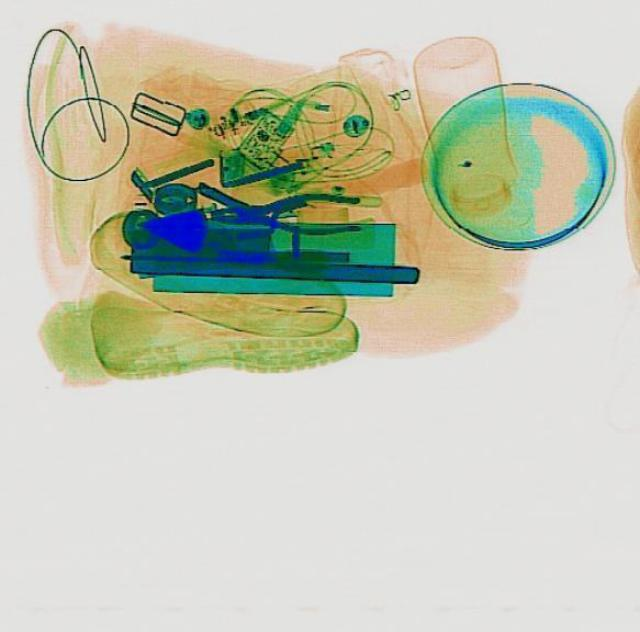Pliers: (210, 189, 358, 235)
